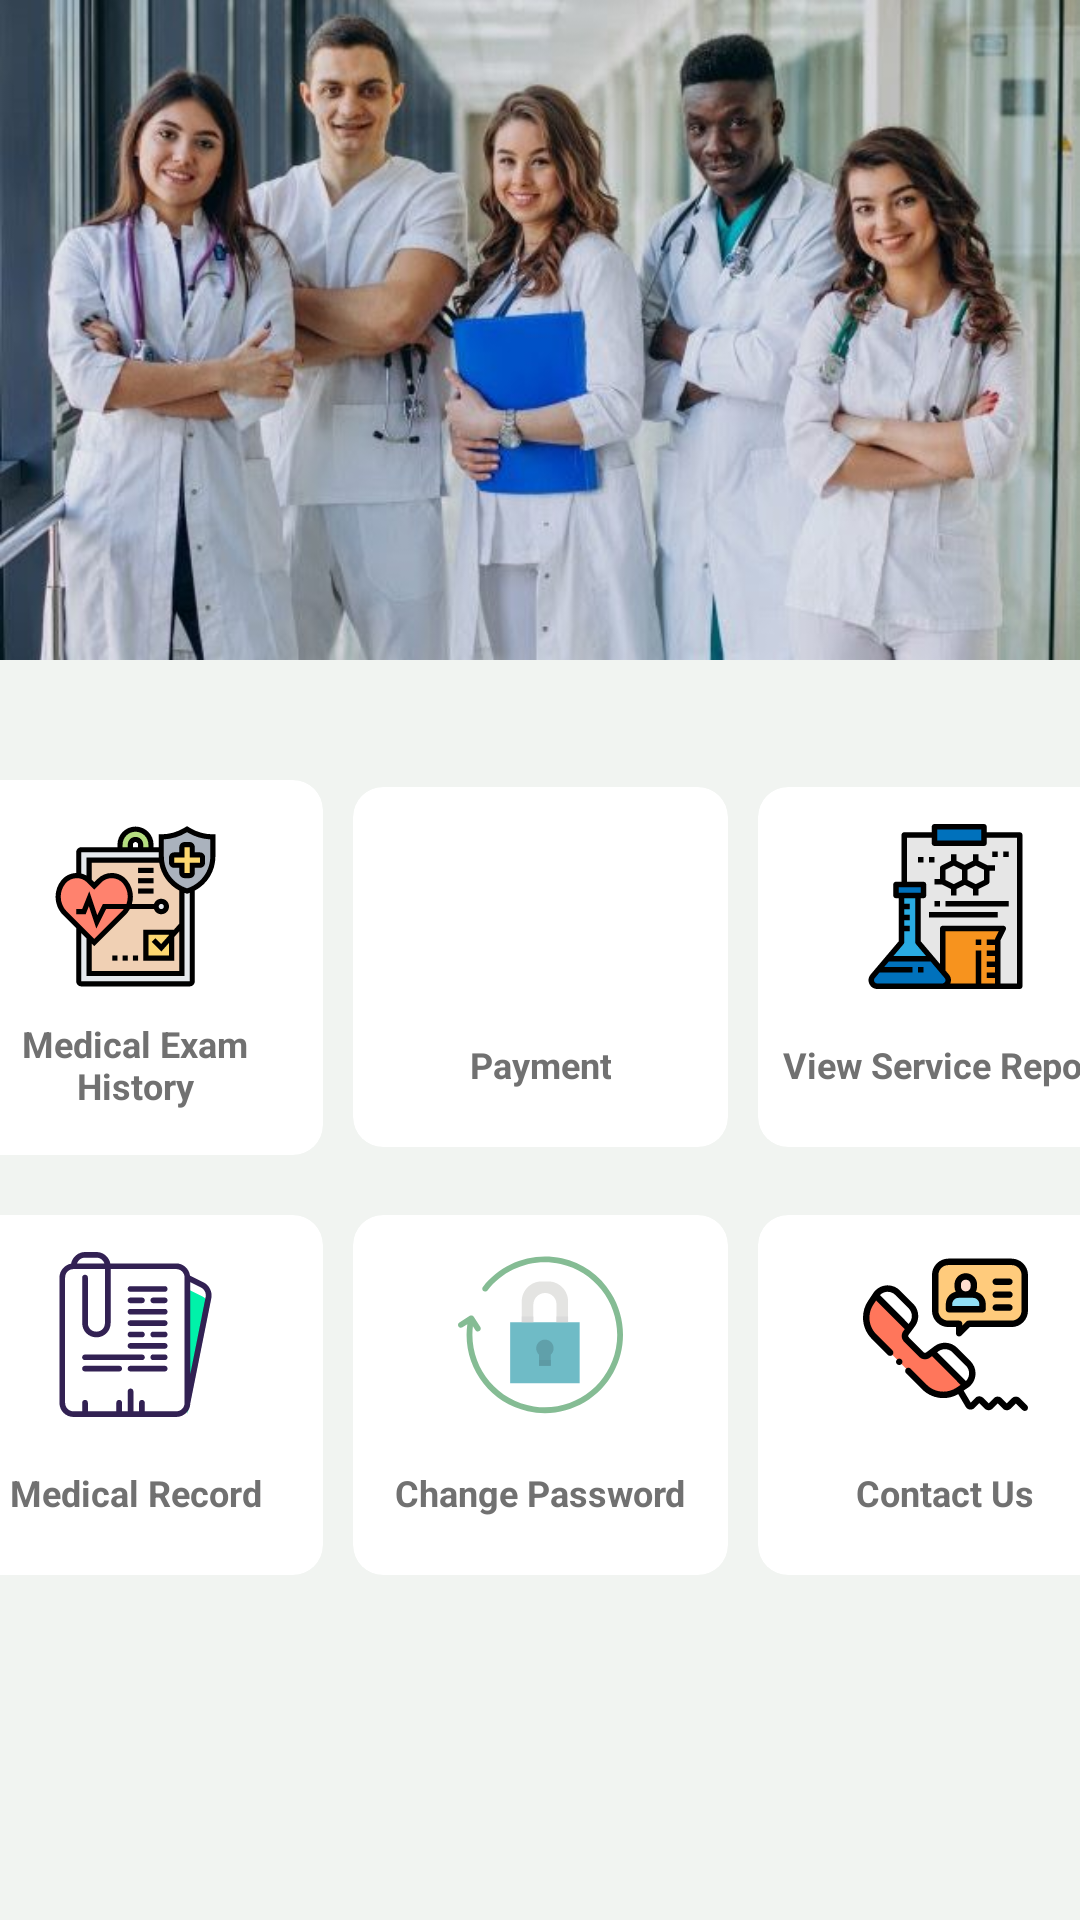

Point at icon controls on the screen. Image size 1080px x 1920px, points as [x,y].
contact colourful: [945,1334]
documents colorful: [135,1334]
lab colorful: [945,906]
lock: [540,1335]
